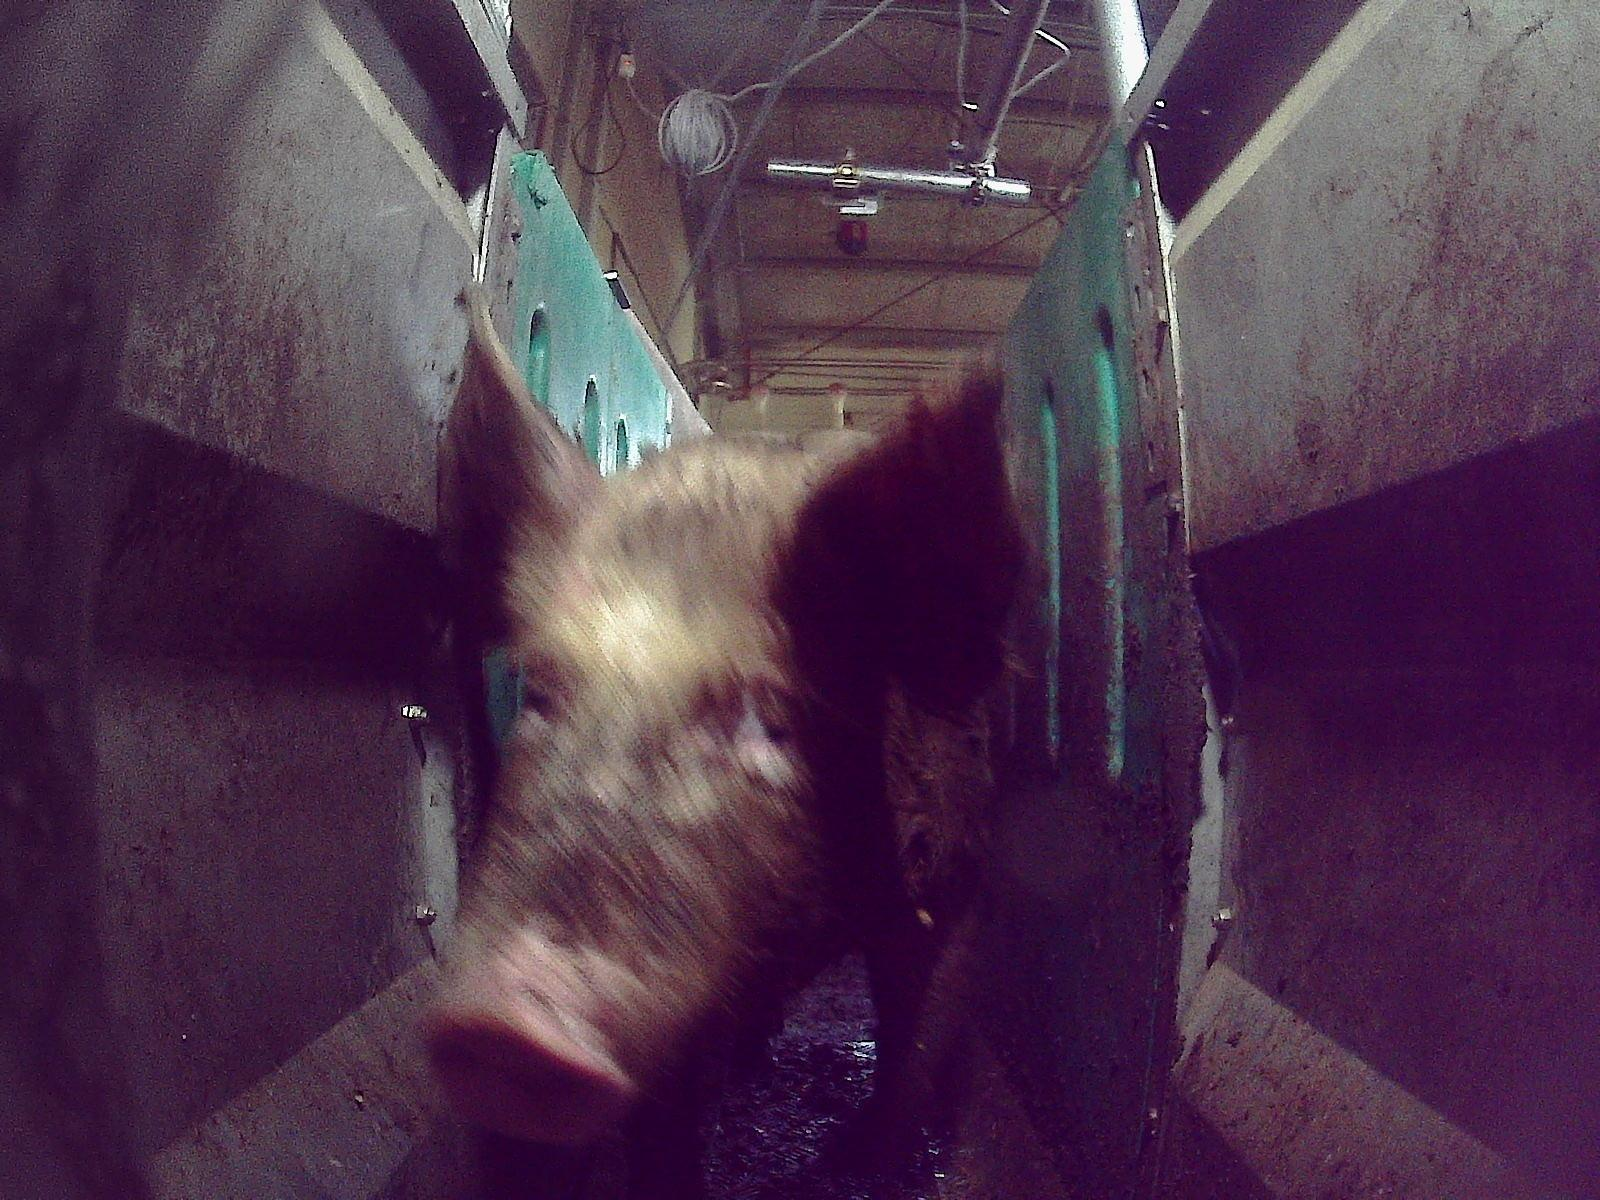Face: (428, 477, 834, 1140)
